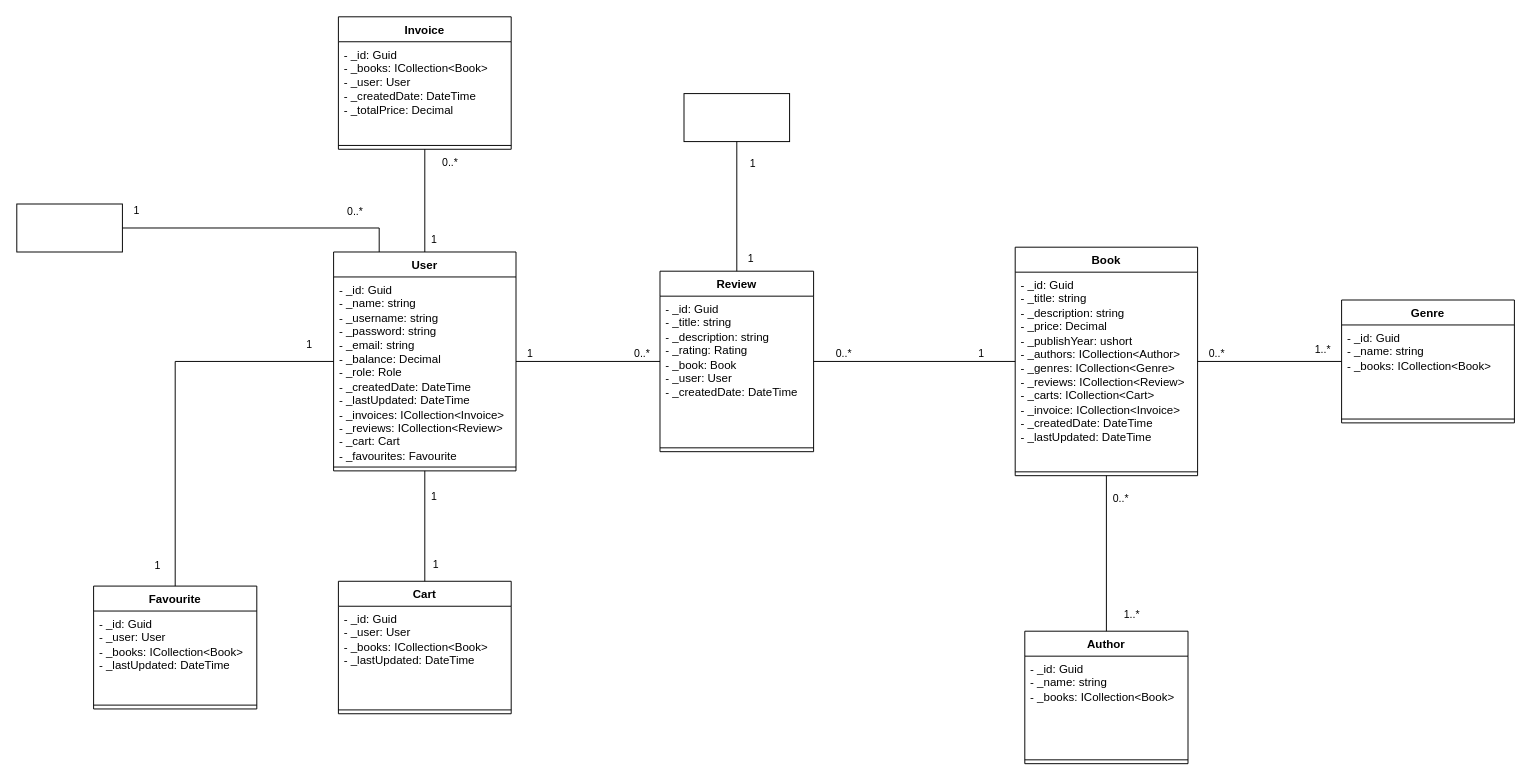
Image size: 1531x780. Some labels were removed from this diagram. The centre of each missing label's shape, as x and y in pixels:
«enum» Rating: (x=736, y=117)
«enum» Role: (x=69, y=227)
